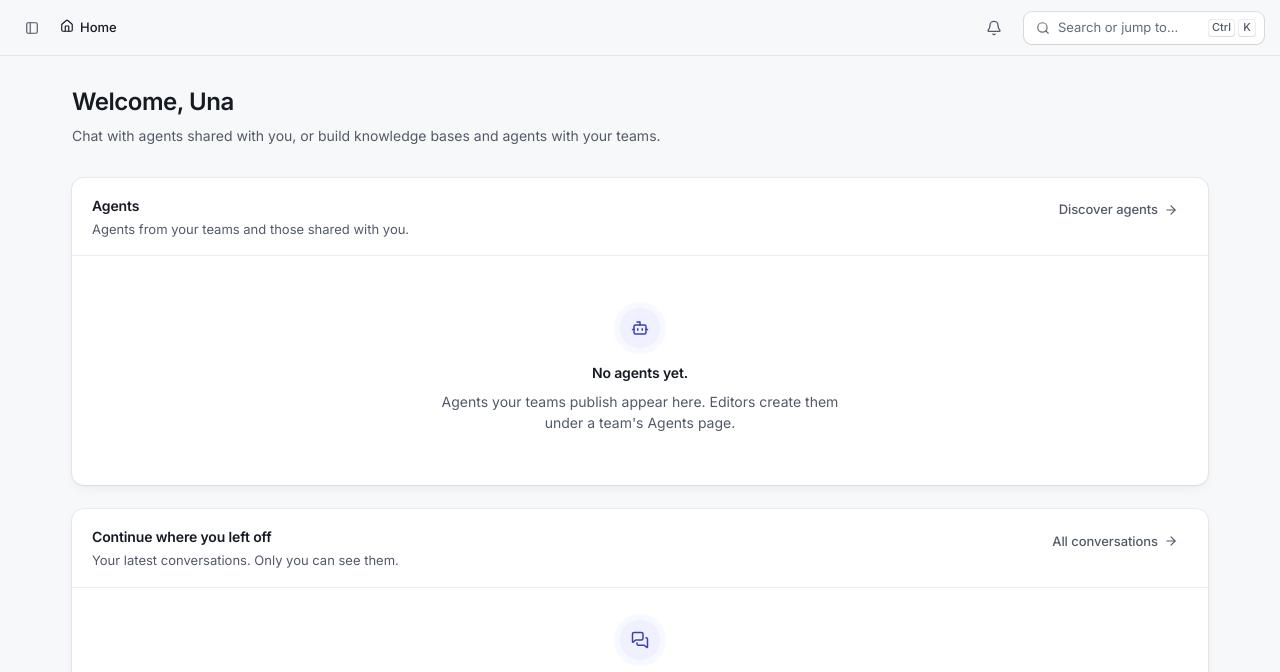
Test: on a phone › opens the sidebar as a drawer from the top bar, and closes it on navigation
Expected: the heading "Welcome, Una" is shown, 72,88 -> 234,117
Click the button named "Open navigation" at (32,28), box 16,12 -> 48,44
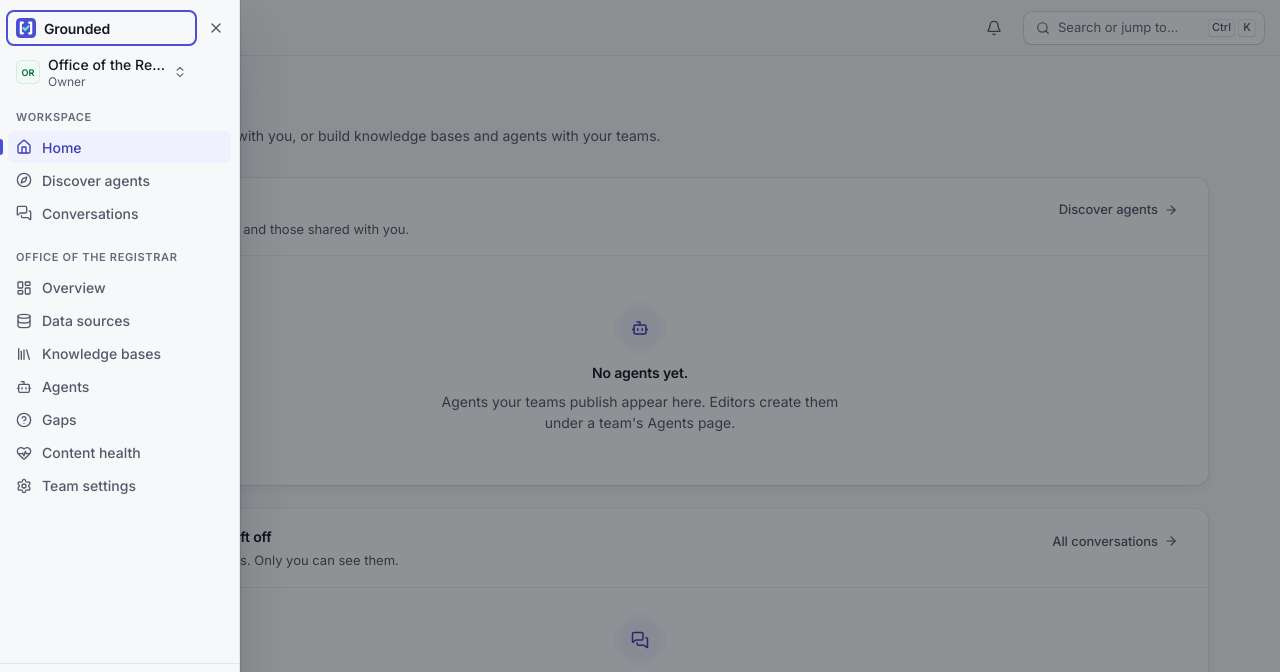
Click the link "Conversations" at (77,213), box 16,204 -> 138,222
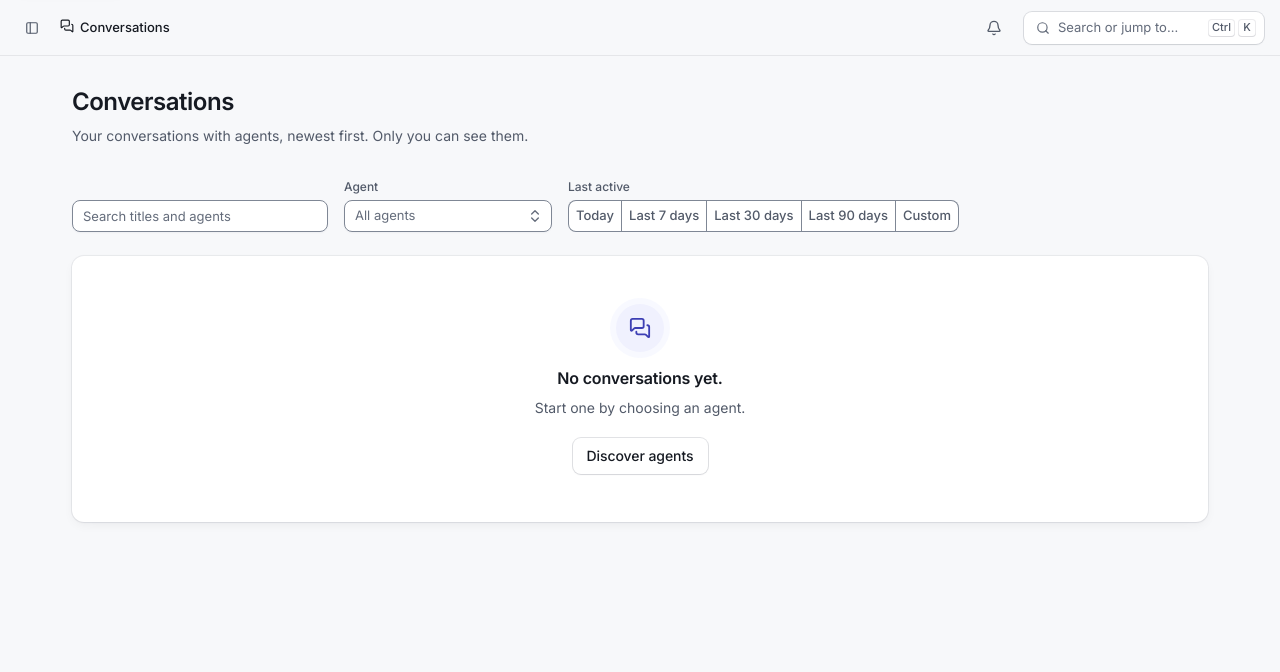
Expected: the button "Navigation" is gone
